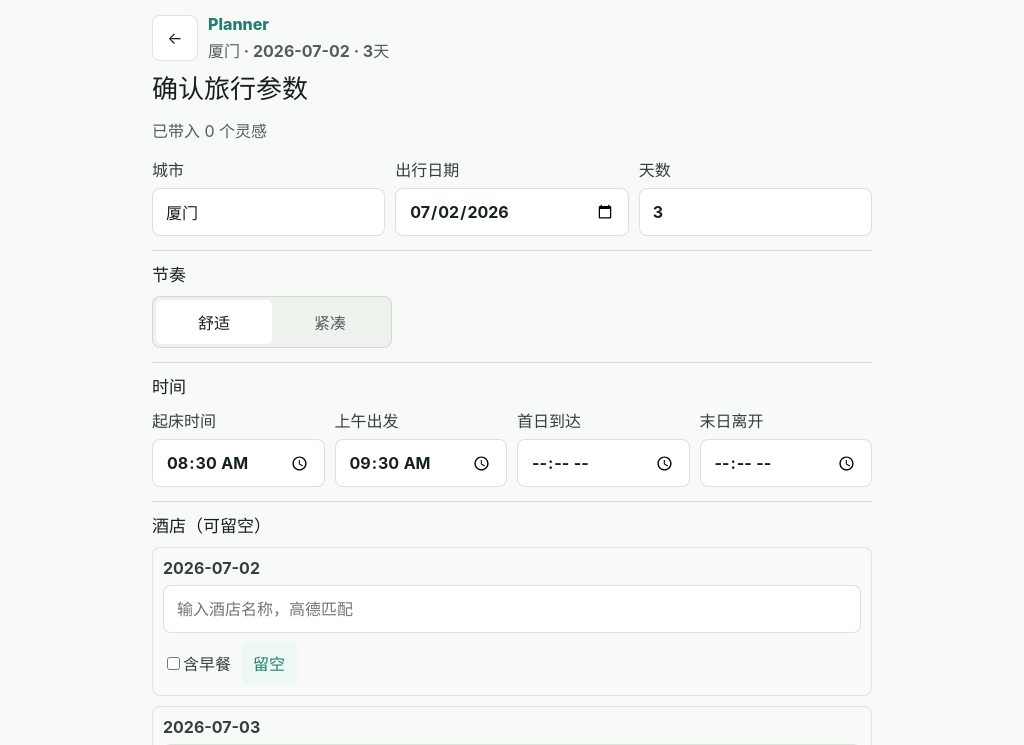
it: PlannerScreen › makes blank hotel rows reversible and clears incompatible breakfast state
Step 1. Click the checkbox labelled "含早餐" → (174, 664), box [167, 657, 180, 670]
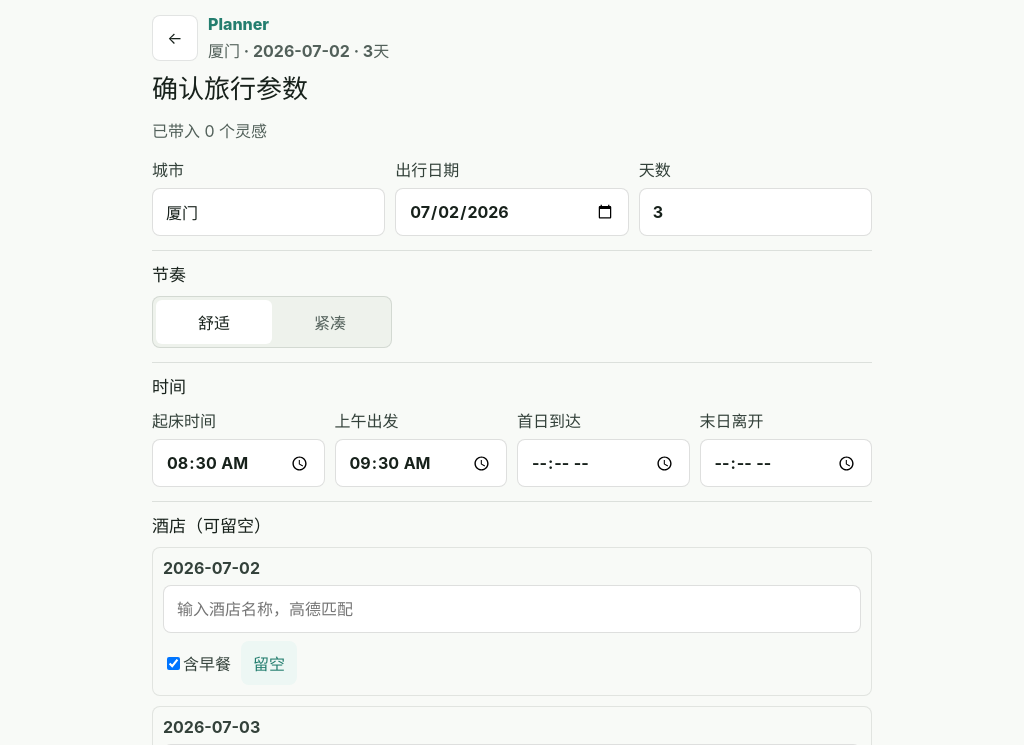
Step 2. Click the button "留空" → (269, 663), box [241, 641, 297, 685]
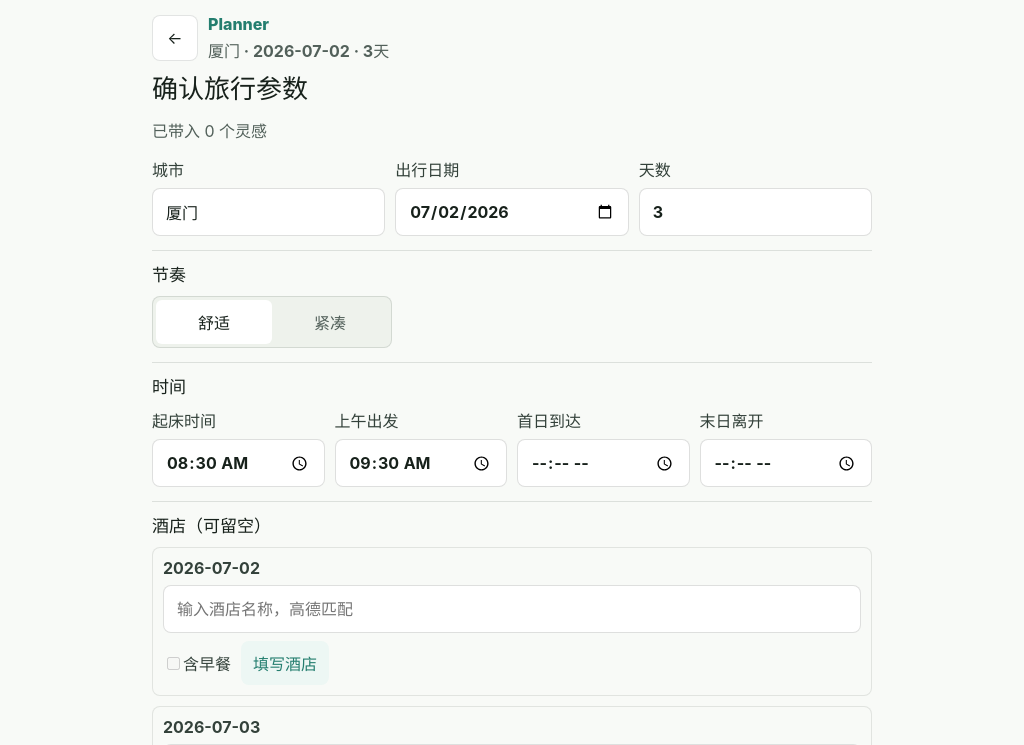
Result: the checkbox labelled "含早餐" is not checked at [167, 657, 180, 670]
Result: the checkbox labelled "含早餐" is disabled at [167, 657, 180, 670]
Step 3. Click the button "填写酒店" → (285, 663), box [241, 641, 329, 685]
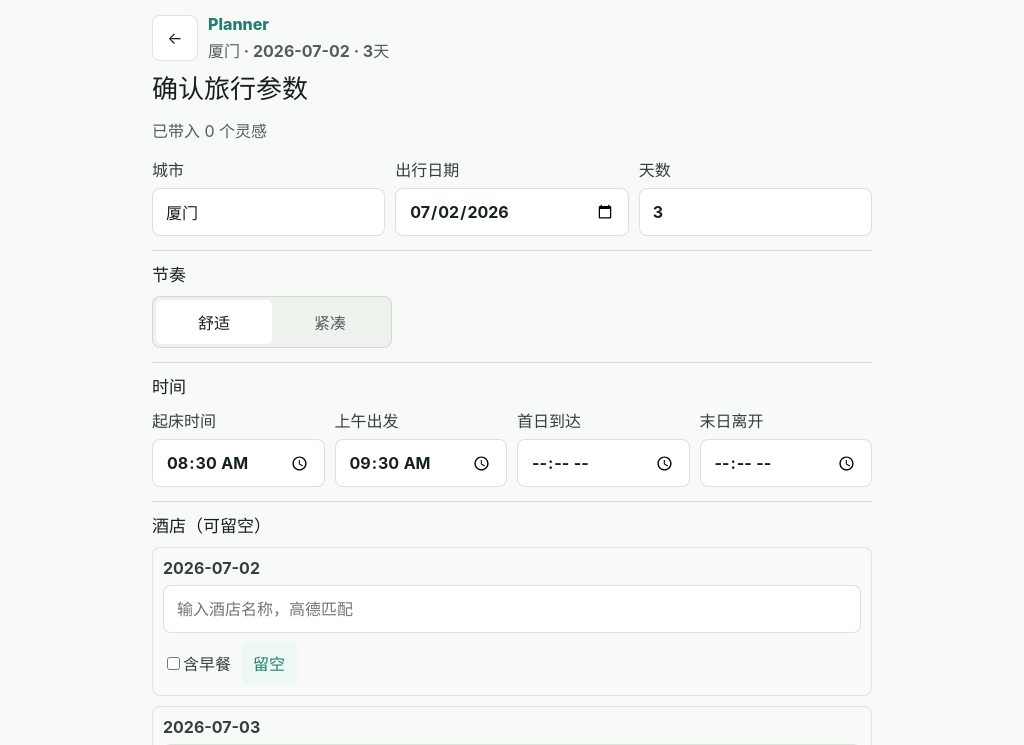
Result: the checkbox labelled "含早餐" is enabled at [167, 657, 180, 670]
